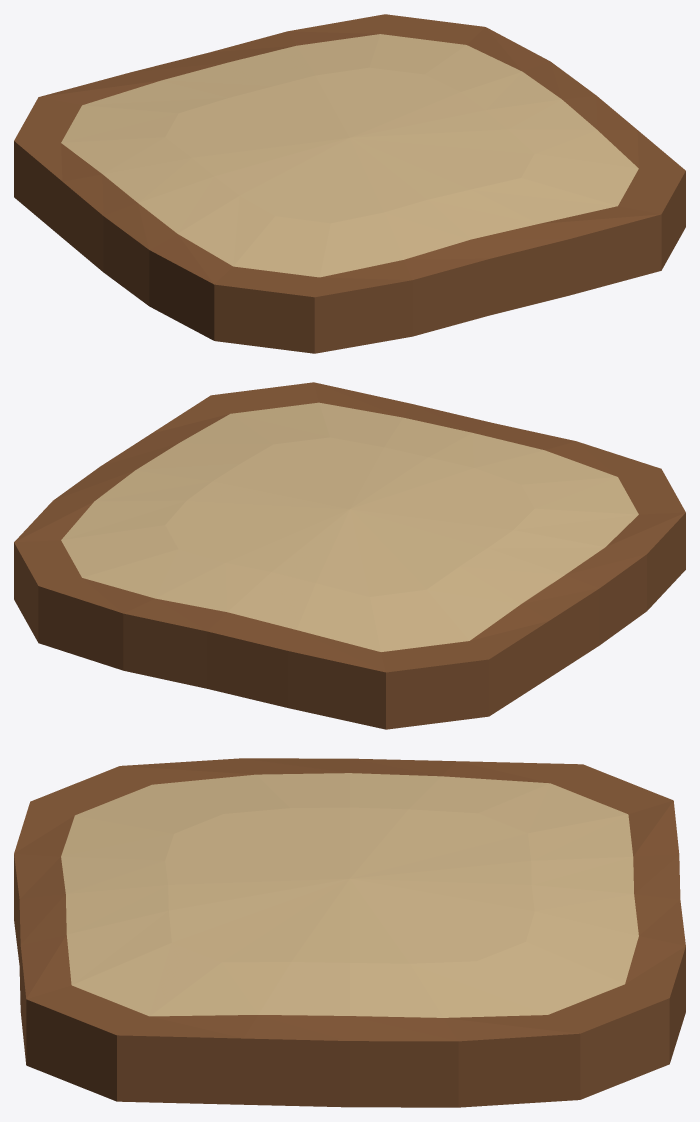
The model's file is bread_slice.glb.
3 renders of one model, top to bottom at view 1: azimuth 30°, elevation 25°; view 2: azimuth 150°, elevation 25°; view 3: azimuth 270°, elevation 25°, orthographic. The views are drawn at different scales.
Parts seen in each view (by area): view 1: bread_slice; view 2: bread_slice; view 3: bread_slice.
Boxes of the visible parts, x1,y1,x2,y2 form: bread_slice: (14,14,685,353); bread_slice: (14,382,685,729); bread_slice: (14,758,685,1107).
Size of the model in its own units: 0.0996 by 0.0143 by 0.1.
